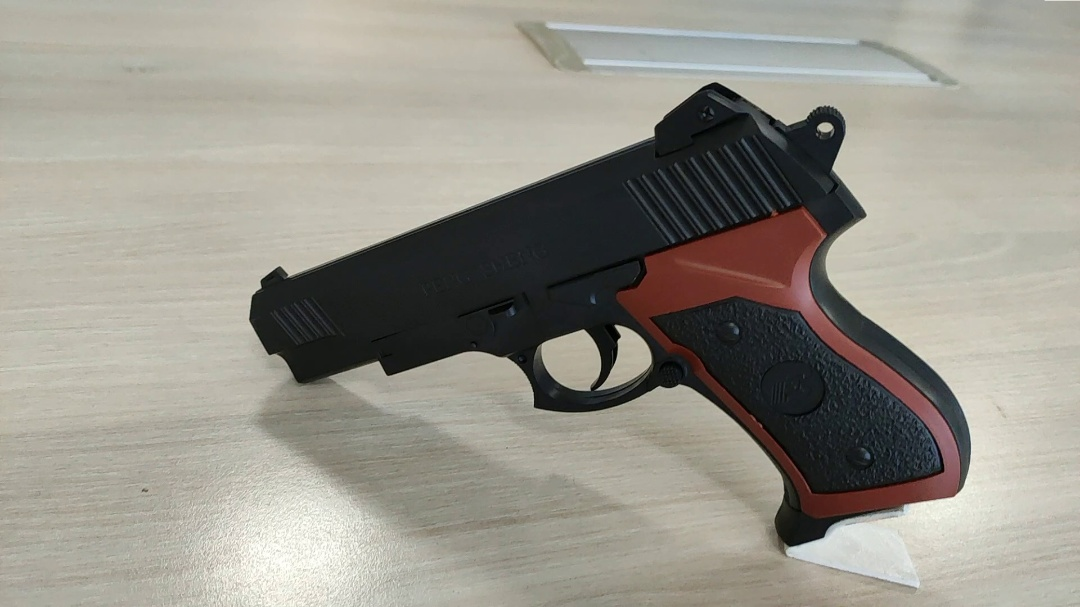gun: (245, 81, 973, 552)
